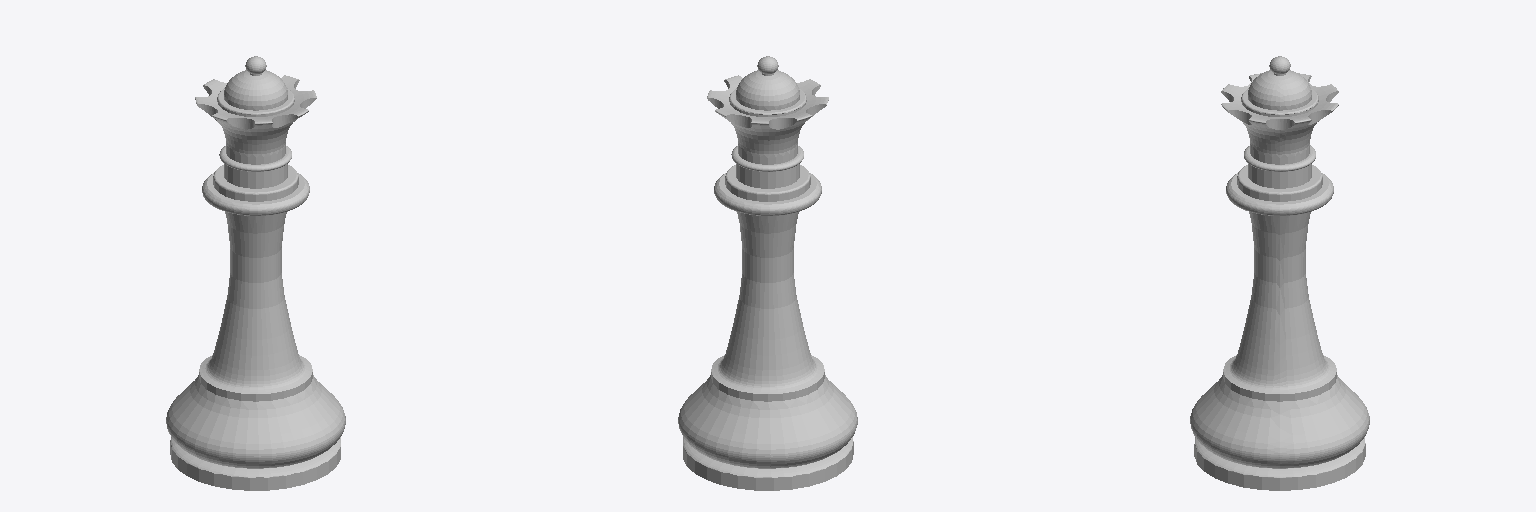
Rendered from queen_black.obj.
3 renders of one model, left to right at view 1: azimuth 30°, elevation 25°; view 2: azimuth 150°, elevation 25°; view 3: azimuth 270°, elevation 25°, orthographic.
Parts seen in each view (by area): view 1: Body13; view 2: Body13; view 3: Body13.
Boxes of the visible parts, <box> form: Body13: <box>166,56,345,490</box>; Body13: <box>678,56,857,490</box>; Body13: <box>1190,56,1369,490</box>.
Bounding box in the file's own units: 4.15 × 10.11 × 4.14.